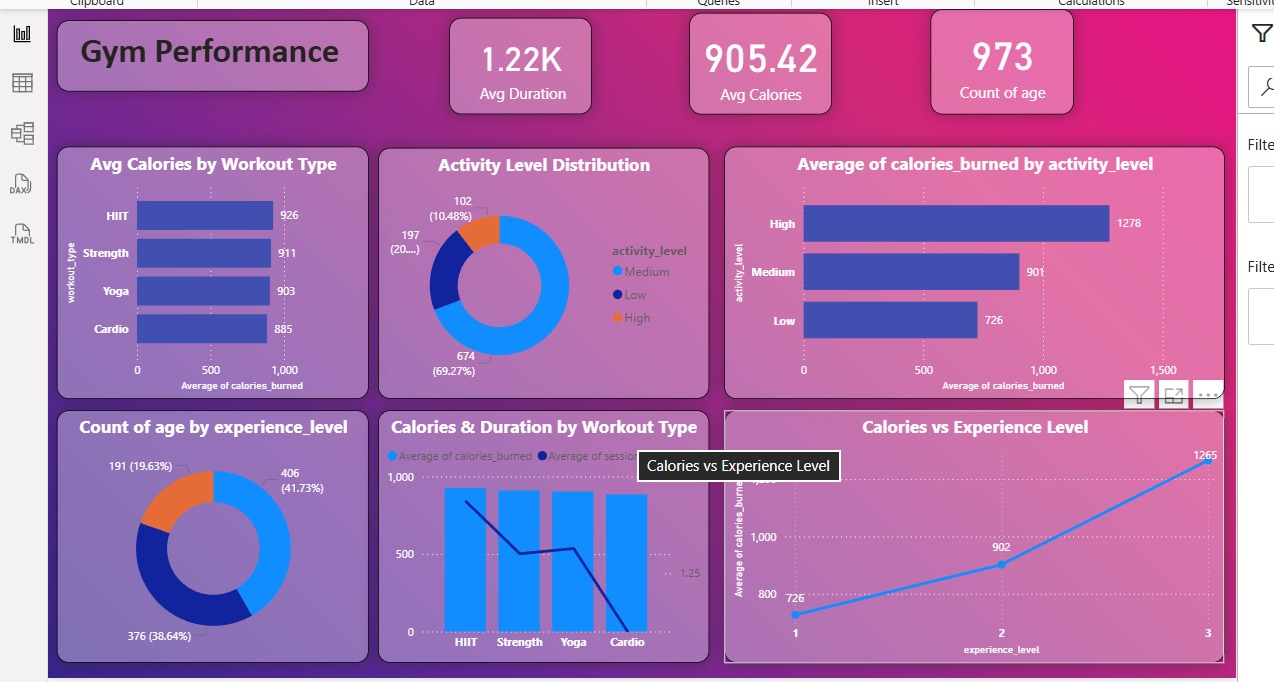

What the dashboard file says about the page in this screenshot:
{"tool":"powerbi","page":{"name":"Page 1","canvas":[1280,720],"ordinal":0},"visuals":[{"type":"textbox","box":[9.4,12.1,336.3,76.7],"z":0},{"type":"lineChart","title":"Calories vs Experience Level","fields":{"Category":["gym_members_cleaned.experience_level"],"Y":["Avg(gym_members_cleaned.calories_burned)"]},"box":[727.7,431.8,539.4,271.7],"z":1000},{"type":"barChart","fields":{"Category":["gym_members_cleaned.activity_level"],"Y":["Avg(gym_members_cleaned.calories_burned)"]},"box":[727.7,148,539.4,271.7],"z":2000},{"type":"donutChart","fields":{"Category":["gym_members_cleaned.experience_level"],"Y":["CountNonNull(gym_members_cleaned.age)"]},"box":[9.4,431.8,336.3,271.7],"z":3000},{"type":"donutChart","title":"Activity Level Distribution","fields":{"Category":["gym_members_cleaned.activity_level"],"Y":["CountNonNull(gym_members_cleaned.age)"]},"box":[355.1,149.3,356.5,270.4],"z":4000},{"type":"card","fields":{"Values":["CountNonNull(gym_members_cleaned.age)"]},"box":[950.7,0,154.4,113.4],"z":5000},{"type":"card","fields":{"Values":["Avg(gym_members_cleaned.calories_burned)"]},"box":[691.3,3.6,153.2,109.8],"z":6000},{"type":"card","fields":{"Values":["Sum(gym_members_cleaned.session_duration_hours)"]},"box":[431.9,9.7,153.2,103.8],"z":7000},{"type":"barChart","title":"Avg Calories by Workout Type","fields":{"Y":["Avg(gym_members_cleaned.calories_burned)"],"Category":["gym_members_cleaned.workout_type"]},"box":[9.4,148,336.3,271.7],"z":8000},{"type":"lineStackedColumnComboChart","title":"Calories & Duration by Workout Type","fields":{"Category":["gym_members_cleaned.workout_type"],"Y":["Avg(gym_members_cleaned.calories_burned)"],"Y2":["Avg(gym_members_cleaned.session_duration_hours)"]},"box":[355.1,431.8,356.5,271.7],"z":9000}]}

Visuals, with their boxes in screenshot pixels (x1, y1, x2, y2):
textbox: [left=49, top=15, right=363, bottom=86]
"Calories vs Experience Level" lineChart: [left=721, top=408, right=1226, bottom=662]
barChart - gym_members_cleaned.activity_level x Avg(gym_members_cleaned.calories_burned): [left=721, top=142, right=1226, bottom=396]
donutChart - gym_members_cleaned.experience_level x CountNonNull(gym_members_cleaned.age): [left=49, top=408, right=363, bottom=662]
"Activity Level Distribution" donutChart: [left=372, top=143, right=706, bottom=396]
card - CountNonNull(gym_members_cleaned.age): [left=930, top=3, right=1074, bottom=109]
card - Avg(gym_members_cleaned.calories_burned): [left=687, top=7, right=830, bottom=109]
card - Sum(gym_members_cleaned.session_duration_hours): [left=444, top=12, right=588, bottom=110]
"Avg Calories by Workout Type" barChart: [left=49, top=142, right=363, bottom=396]
"Calories & Duration by Workout Type" lineStackedColumnComboChart: [left=372, top=408, right=706, bottom=662]
